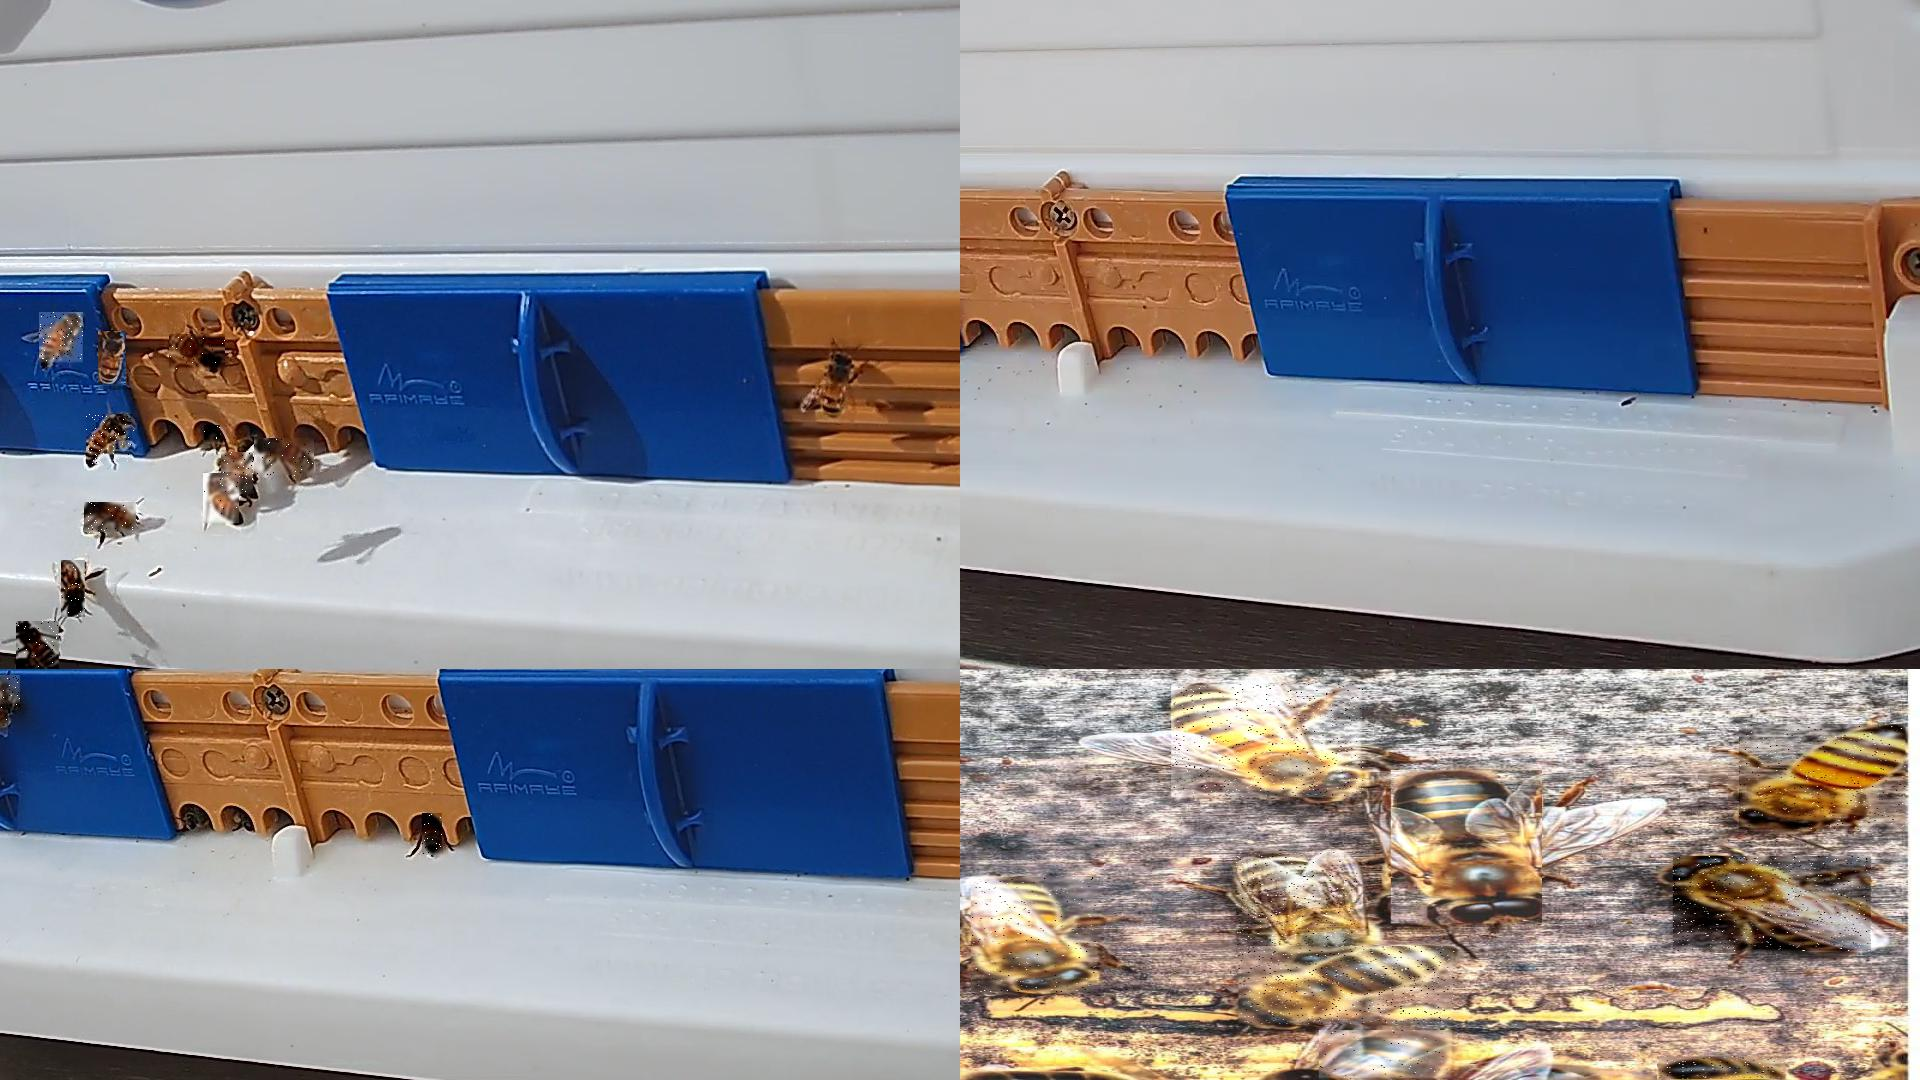bee: (1172, 684, 1366, 798), (1673, 856, 1873, 952), (1739, 724, 1907, 832), (1240, 947, 1457, 1025), (972, 877, 1097, 993), (1236, 853, 1358, 964), (1659, 1056, 1787, 1080), (40, 313, 84, 365), (255, 439, 315, 477), (16, 621, 61, 669), (169, 335, 225, 372), (203, 473, 240, 526), (84, 502, 138, 535), (99, 332, 128, 390), (222, 452, 255, 497), (61, 560, 86, 618), (422, 814, 443, 858), (0, 675, 22, 707), (0, 684, 11, 727), (204, 426, 222, 444)
drone: (1391, 770, 1543, 924), (1320, 1030, 1456, 1080)
pollenbee: (87, 415, 136, 465)
